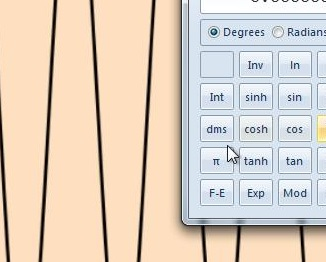cursor: (226, 143, 240, 164)
